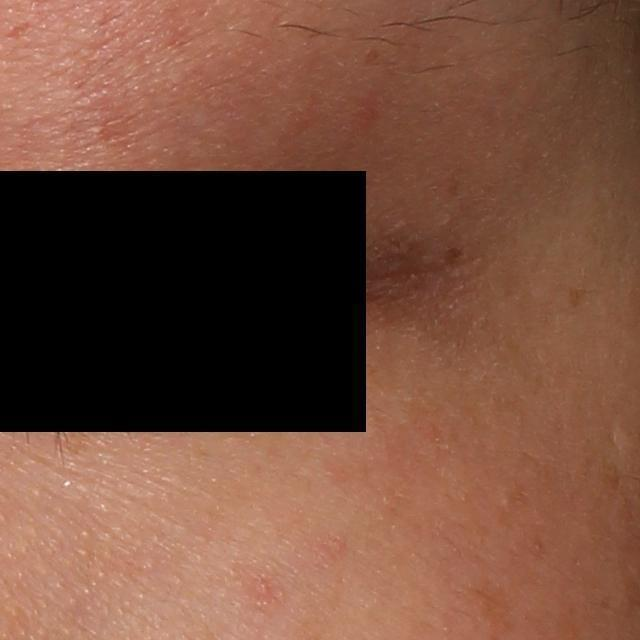atrophic_scar: (606, 421, 620, 447)
melasma: (566, 285, 591, 313), (441, 246, 468, 262)
